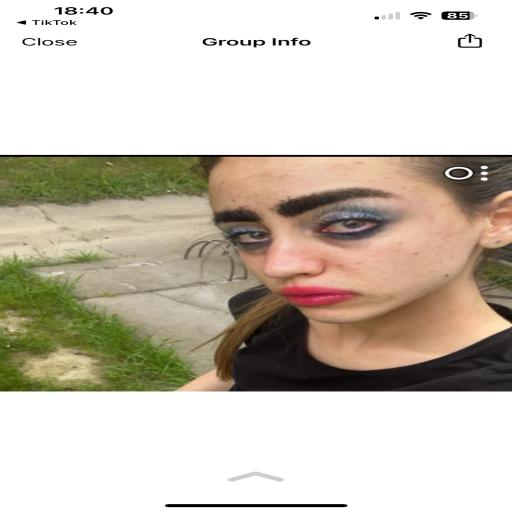masa: (210, 152, 446, 322)
